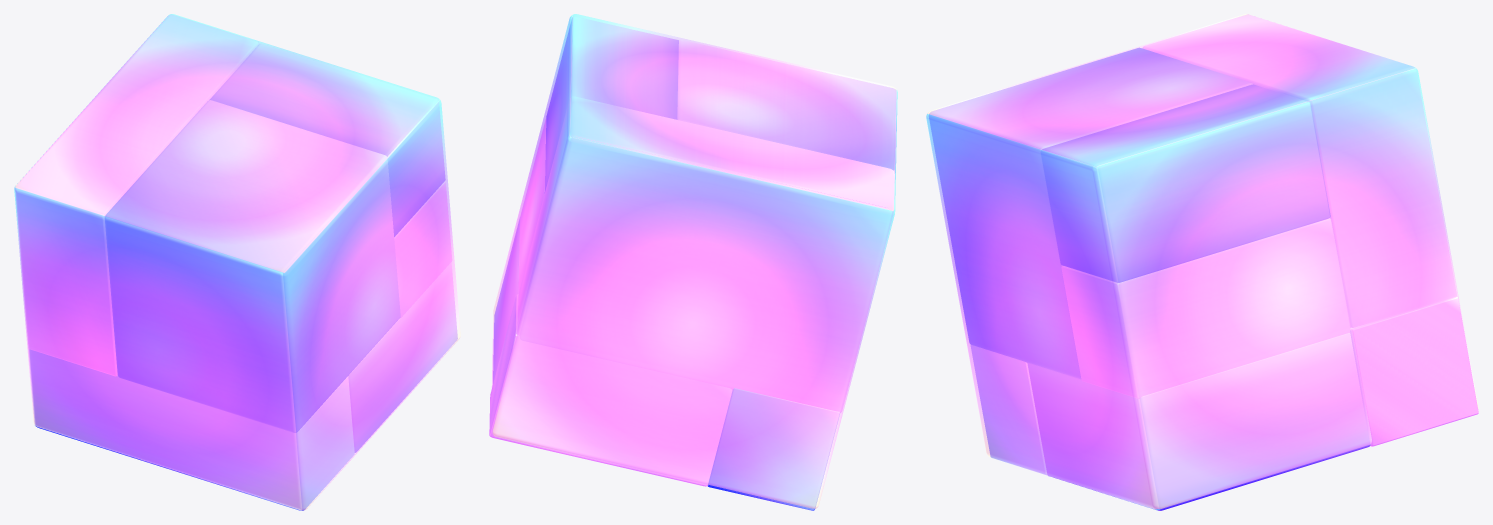
3 views of the same model, side by side, from view 1: azimuth 30°, elevation 25°; view 2: azimuth 150°, elevation 25°; view 3: azimuth 270°, elevation 25° (orthographic). The views are drawn at different scales.
Parts seen in each view (by area): view 1: Box_8, Box_6_20, Box_6_23, Box_6, Box_6_17, Box_9, Box_6_14; view 2: Box_8, Box_6_23, Box_6_10, Box_6_20, Box_6, Box_6_17, Box_6_14, Box_9; view 3: Box_8, Box_6_17, Box_6_20, Box_9, Box_6_23, Box_6_14, Box_6_10, Box_6.
Boxes of the visible parts, <box> form: Box_8: <box>14,14,460,510</box>; Box_6_20: <box>105,100,400,432</box>; Box_6_23: <box>15,14,258,376</box>; Box_6: <box>28,348,354,510</box>; Box_6_17: <box>209,44,445,236</box>; Box_9: <box>348,262,457,452</box>; Box_6_14: <box>394,181,451,317</box>; Box_8: <box>491,14,897,508</box>; Box_6_23: <box>518,97,894,412</box>; Box_6_10: <box>489,294,732,486</box>; Box_6_20: <box>677,40,896,172</box>; Box_6: <box>708,388,839,510</box>; Box_6_17: <box>545,16,678,190</box>; Box_6_14: <box>519,120,545,290</box>; Box_9: <box>493,219,519,382</box>; Box_8: <box>926,14,1478,510</box>; Box_6_17: <box>1041,84,1330,282</box>; Box_6_20: <box>929,48,1252,378</box>; Box_9: <box>1027,333,1370,510</box>; Box_6_23: <box>1143,14,1456,327</box>; Box_6_14: <box>1061,218,1350,398</box>; Box_6_10: <box>1350,296,1478,446</box>; Box_6: <box>971,345,1046,474</box>.
Size of the model in its own units: 5.77 by 4.8 by 5.75.
14 materials, 7 textured.
